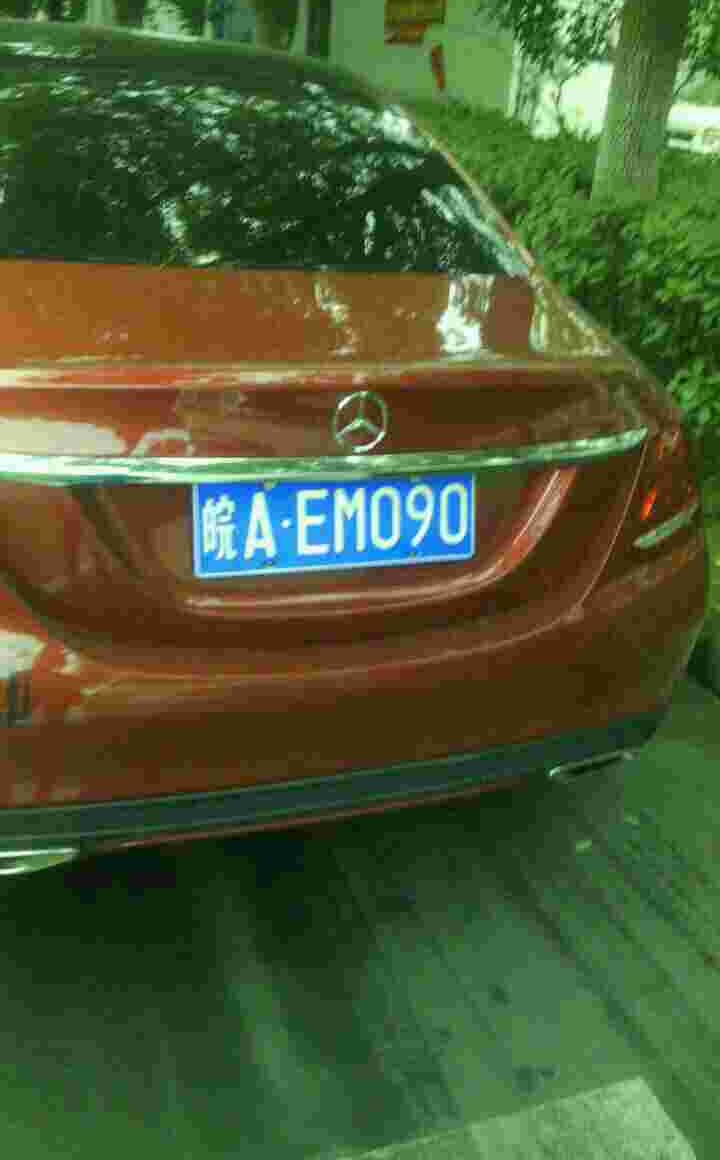license_plate: (194, 481, 486, 579)
